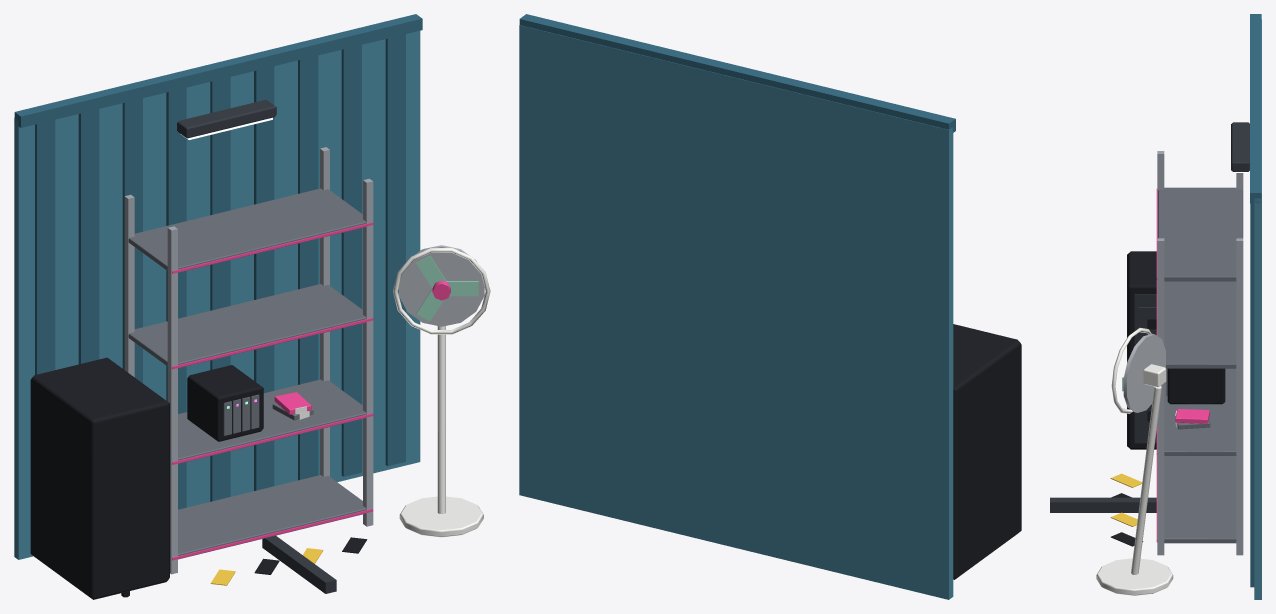
Rendered from station_transport_1.glb.
The picture shows the model from 3 angles, left to right: view 1: azimuth 30°, elevation 25°; view 2: azimuth 150°, elevation 25°; view 3: azimuth 270°, elevation 25°; orthographic projection. The views are drawn at different scales.
Visible parts, largest first — view 1: station_transport_1; view 2: station_transport_1; view 3: station_transport_1.
Part boxes in pixels (bbox=[...]): station_transport_1: bbox=[14, 14, 490, 599]; station_transport_1: bbox=[519, 14, 1021, 599]; station_transport_1: bbox=[1050, 14, 1261, 599].
Bounding box in the file's own units: 2.2 × 2.33 × 1.1.
